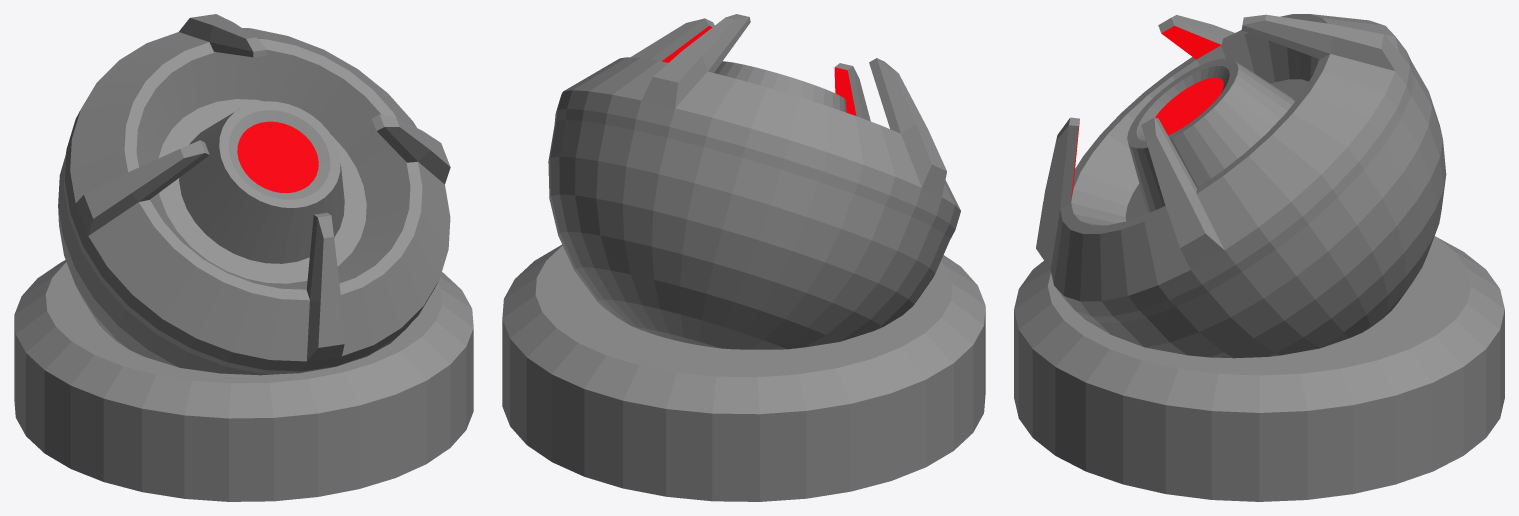
Rendered from portal_projector.glb.
The picture shows the model from 3 angles, left to right: view 1: azimuth 30°, elevation 25°; view 2: azimuth 150°, elevation 25°; view 3: azimuth 270°, elevation 25°; orthographic projection. The views are drawn at different scales.
Visible parts, largest first — view 1: Cylinder.001, Cylinder, Cylinder.003; view 2: Cylinder.001, Cylinder, Cylinder.003; view 3: Cylinder.001, Cylinder, Cylinder.003.
Boxes of the visible parts, left/top/right/bottom form: Cylinder.001: left=58, top=14, right=450, bottom=375; Cylinder: left=14, top=260, right=473, bottom=501; Cylinder.003: left=237, top=121, right=318, bottom=193; Cylinder.001: left=548, top=14, right=960, bottom=349; Cylinder: left=502, top=244, right=985, bottom=501; Cylinder.003: left=662, top=26, right=856, bottom=115; Cylinder.001: left=1036, top=14, right=1446, bottom=358; Cylinder: left=1014, top=236, right=1504, bottom=501; Cylinder.003: left=1071, top=26, right=1223, bottom=200.
Size of the model in its own units: 4 by 3.47 by 4.
